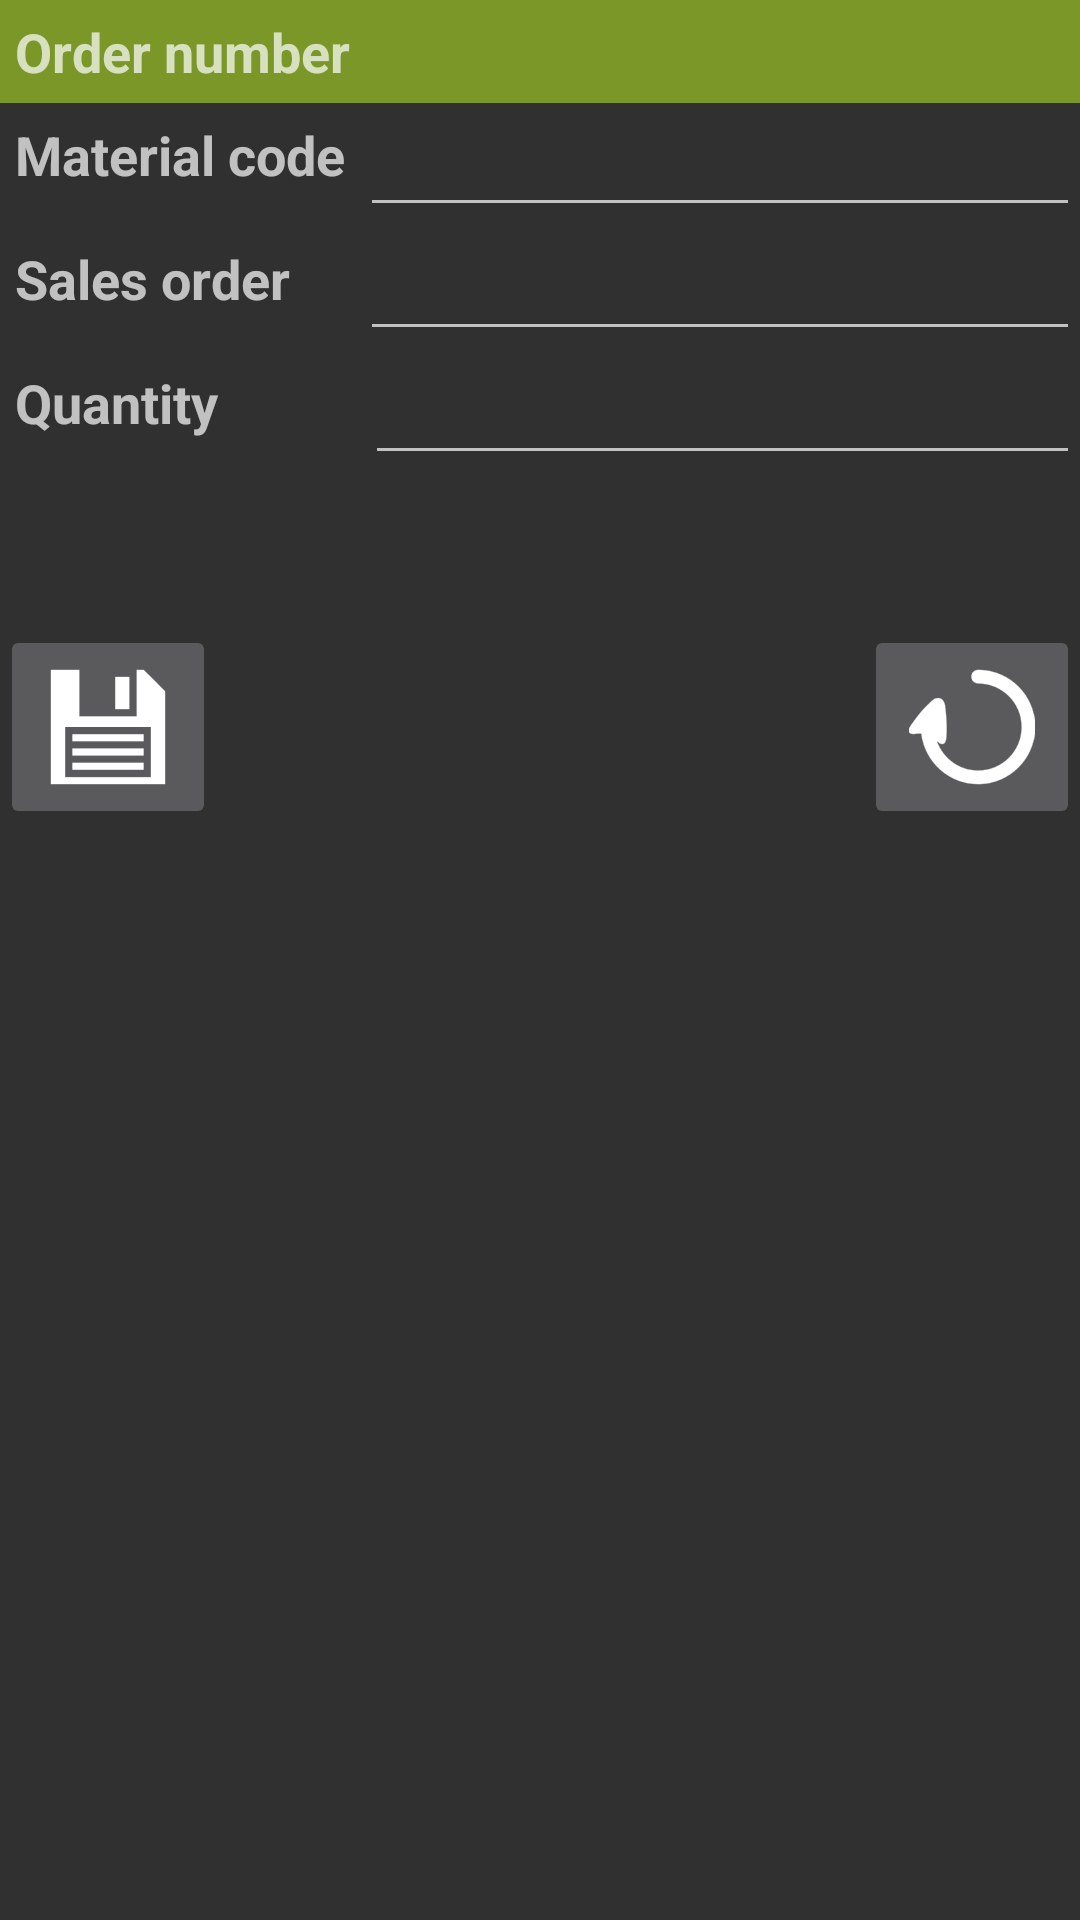

Screen size 1080 x 1920. Icon name, then its center in pixels as (x=x, y=y):
save: (x=108, y=727)
